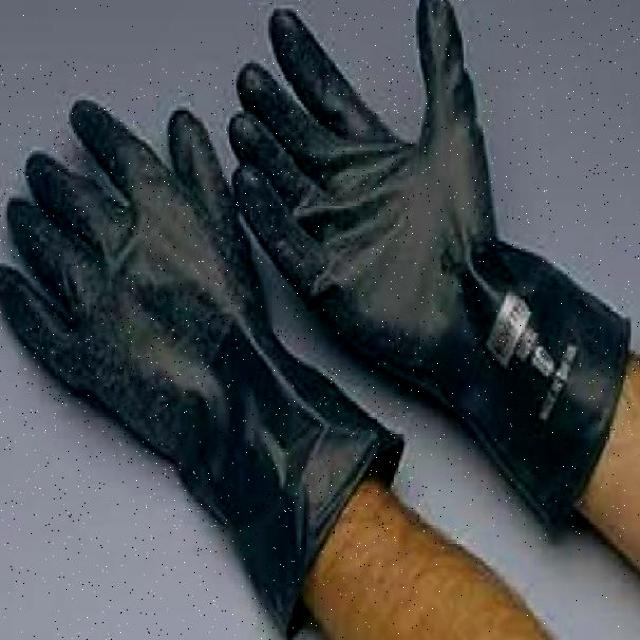Gloves: (0, 101, 401, 633), (229, 0, 628, 523)
